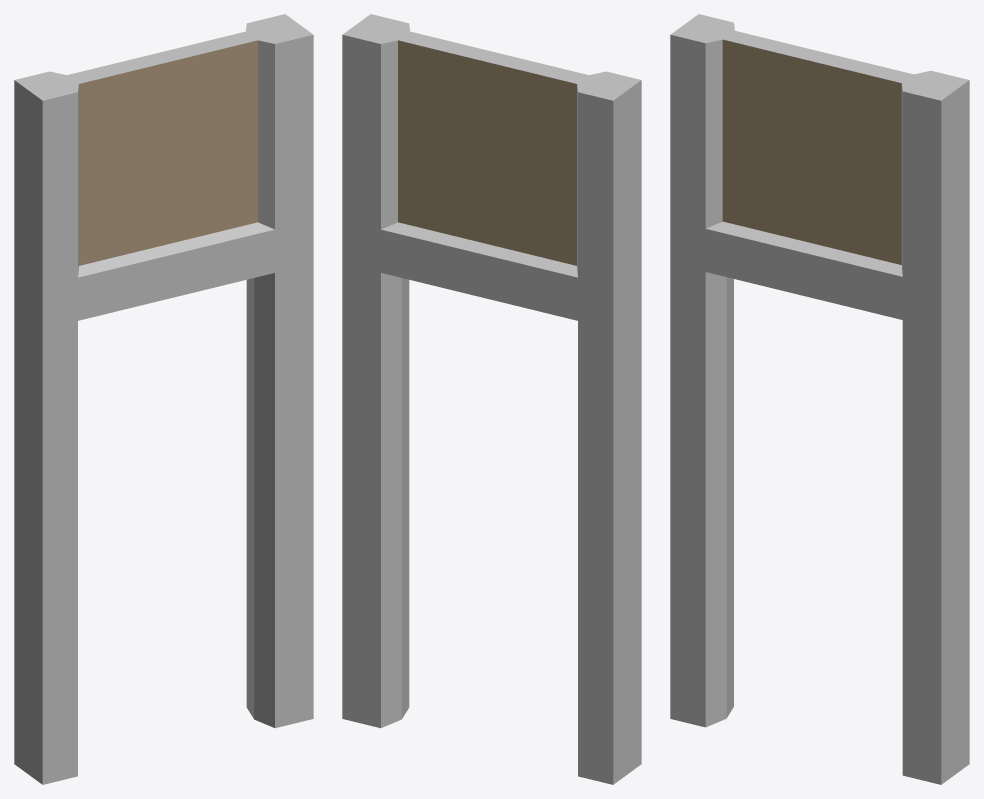
The model's file is SM_Bld_Wall_Doorway_Half_01.fbx.
The picture shows the model from 3 angles, left to right: view 1: azimuth 30°, elevation 25°; view 2: azimuth 150°, elevation 25°; view 3: azimuth 330°, elevation 25°; orthographic projection.
Parts seen in each view (by area): view 1: SM_Bld_Wall_Doorway_Half_01; view 2: SM_Bld_Wall_Doorway_Half_01; view 3: SM_Bld_Wall_Doorway_Half_01.
Part boxes in pixels (x1,y1,x2,y2): SM_Bld_Wall_Doorway_Half_01: [14, 14, 313, 784]; SM_Bld_Wall_Doorway_Half_01: [342, 14, 641, 784]; SM_Bld_Wall_Doorway_Half_01: [670, 14, 969, 784].
Bounding box in the file's own units: 124 × 300 × 22.5.
